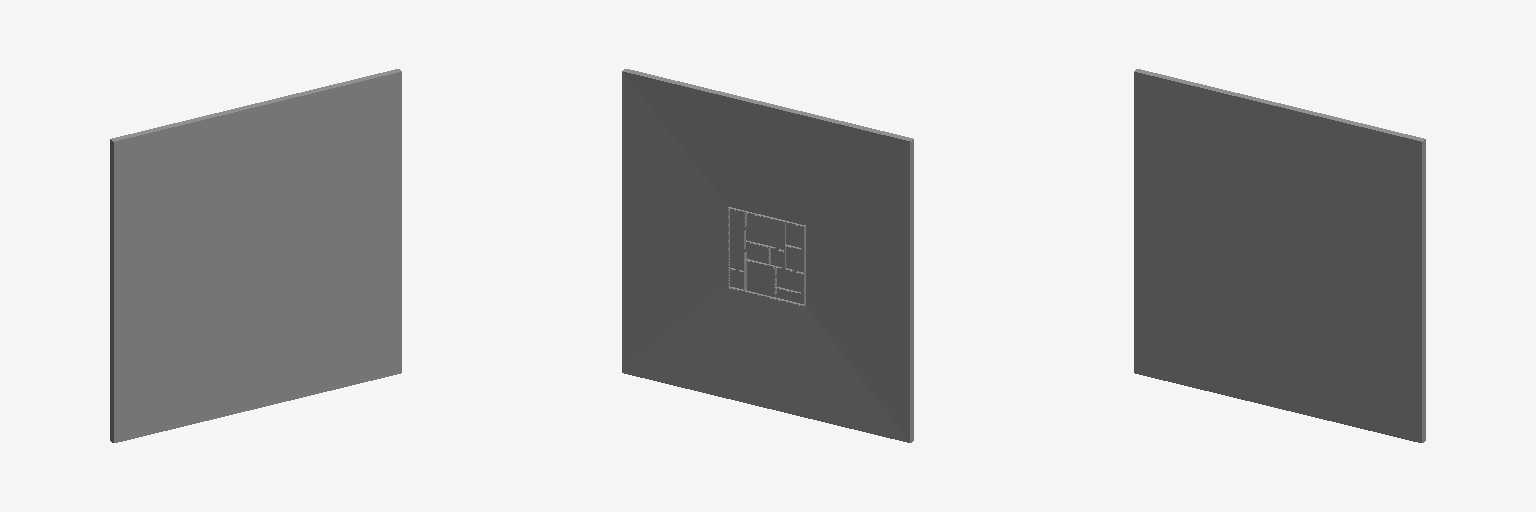
The model's file is Mapa03.obj.
3 views of the same model, side by side, from view 1: azimuth 30°, elevation 25°; view 2: azimuth 150°, elevation 25°; view 3: azimuth 330°, elevation 25° (orthographic).
Visible parts, largest first — view 1: Plane001; view 2: Plane001; view 3: Plane001.
Part boxes in pixels (x1,y1,x2,y2): Plane001: (110, 69, 401, 442); Plane001: (622, 69, 913, 442); Plane001: (1134, 69, 1425, 442).
Size of the model in its own units: 377 by 377 by 9.34.